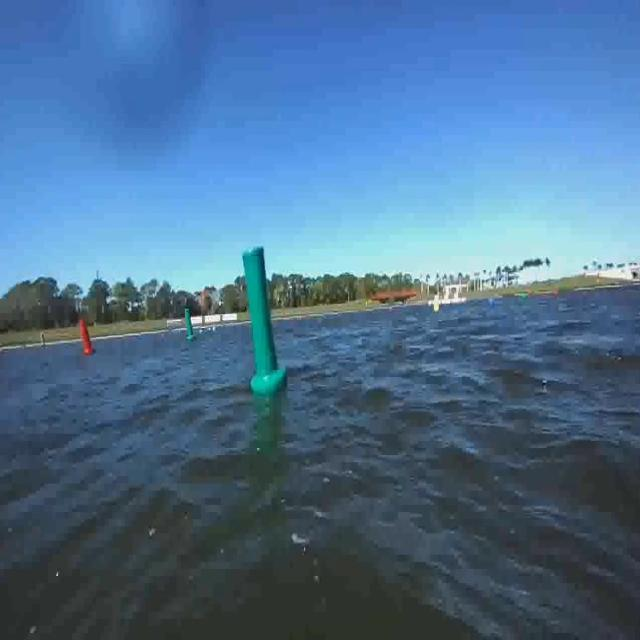blue-buoy: (488, 295, 494, 309)
green-column-buoy: (245, 245, 288, 397), (184, 308, 196, 340)
red-column-buoy: (78, 320, 95, 357)
yellow-buoy: (432, 304, 440, 316)
